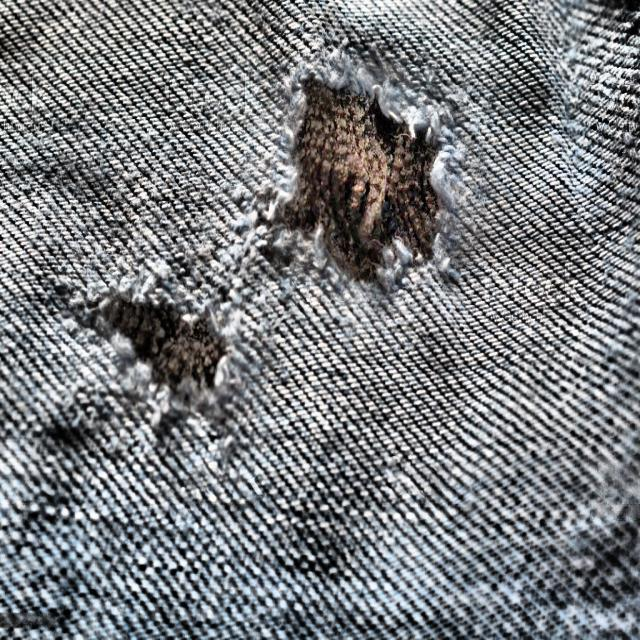cut: (256, 22, 504, 319), (56, 252, 257, 460)
